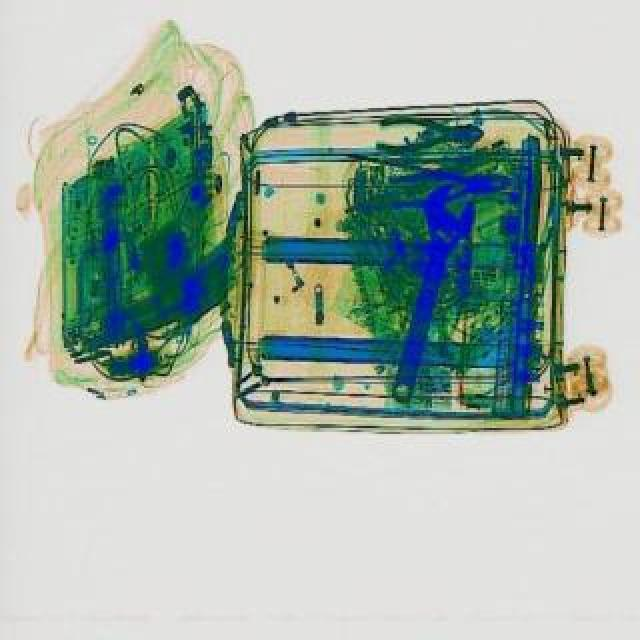scissors: (372, 178, 480, 406)
wrench: (384, 160, 512, 210), (374, 112, 484, 150)
